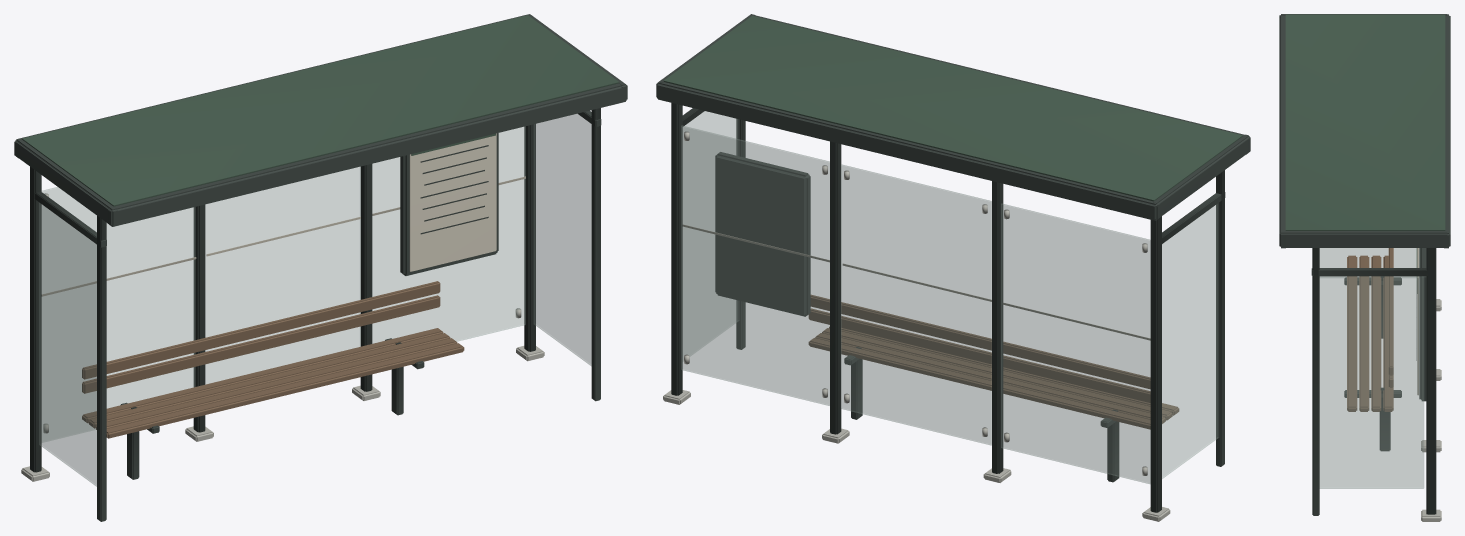
Rendered from glazed-bus-shelter.glb.
3 renders of one model, left to right at view 1: azimuth 30°, elevation 25°; view 2: azimuth 150°, elevation 25°; view 3: azimuth 270°, elevation 25°, orthographic. The views are drawn at different scales.
Visible parts, largest first — view 1: Frame; view 2: Frame; view 3: Frame.
Part boxes in pixels (box(x1,y1,x2,y2)): Frame: box(14, 14, 627, 521); Frame: box(656, 14, 1250, 521); Frame: box(1279, 14, 1450, 521).
Size of the model in its own units: 3.58 by 2.2 by 1.18.
